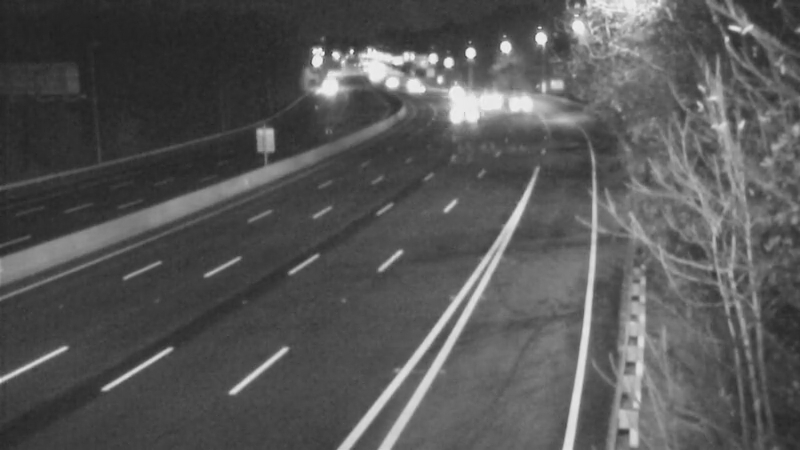vehicle: (466, 73, 516, 123), (439, 80, 489, 130), (490, 79, 540, 129), (433, 89, 483, 139)
